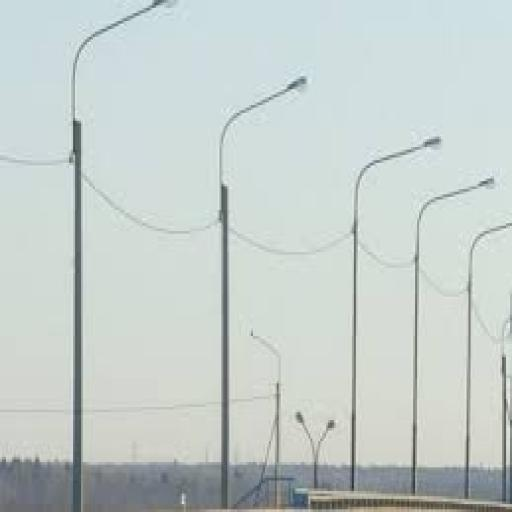Light-pole: (59, 0, 164, 512), (209, 44, 312, 512), (340, 98, 432, 512), (402, 168, 483, 500)
